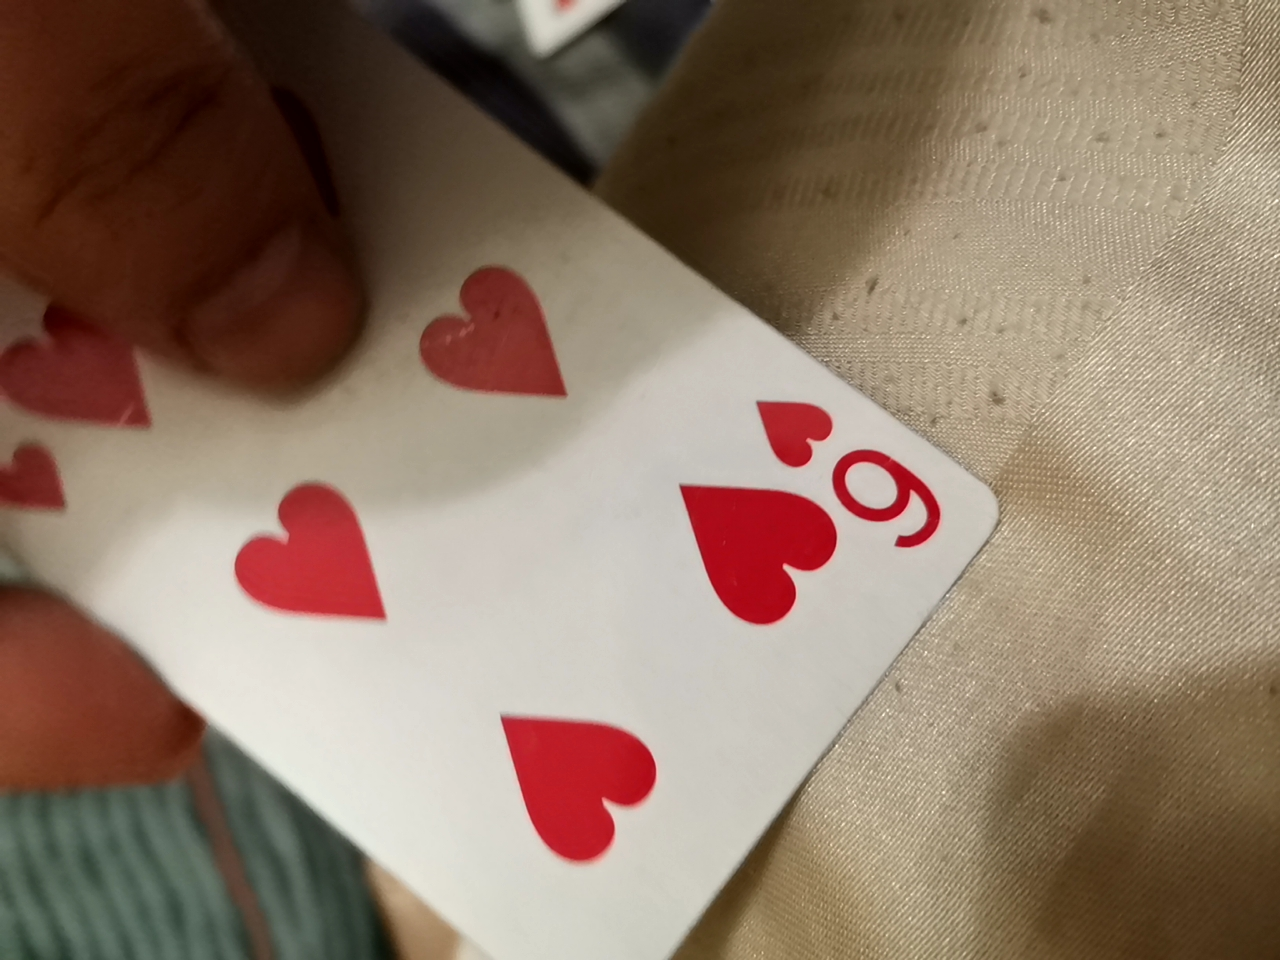hx 6: (15, 80, 1014, 953)
